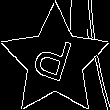P_S: (31, 31, 79, 91)
